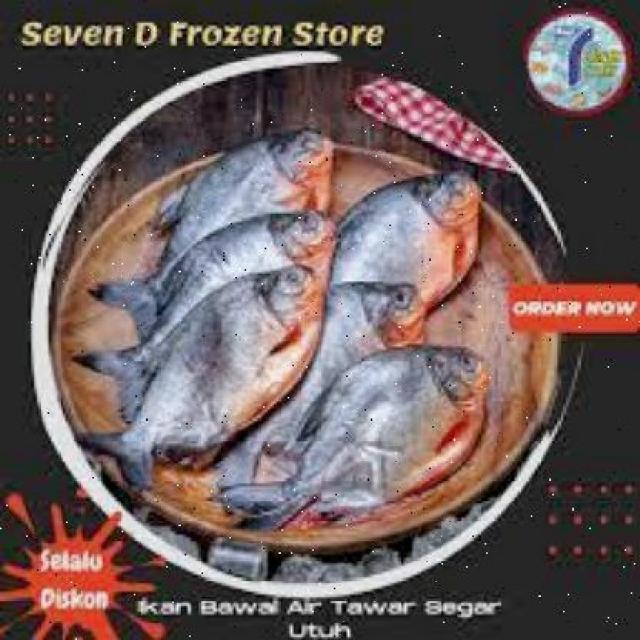ikan-pacu: (108, 261, 326, 474), (238, 347, 491, 530), (336, 168, 489, 278), (165, 128, 328, 208), (177, 202, 328, 284)
